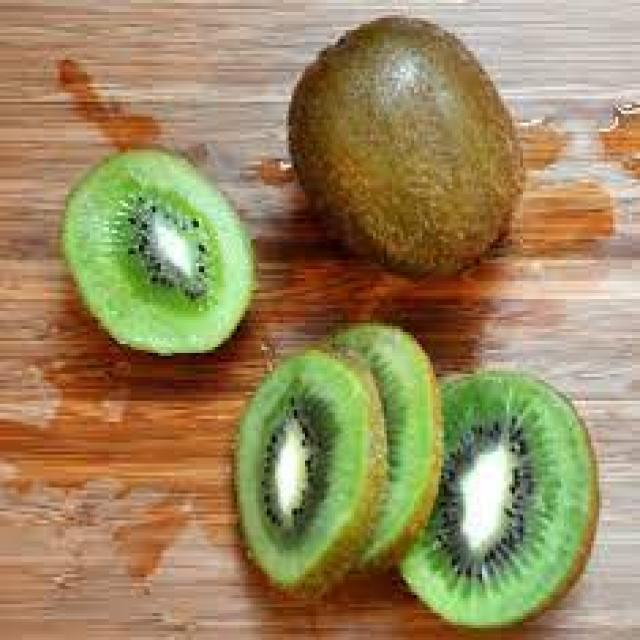kiwi: (281, 12, 528, 281), (397, 371, 602, 622), (60, 143, 264, 362), (240, 347, 376, 583), (338, 323, 444, 586)
